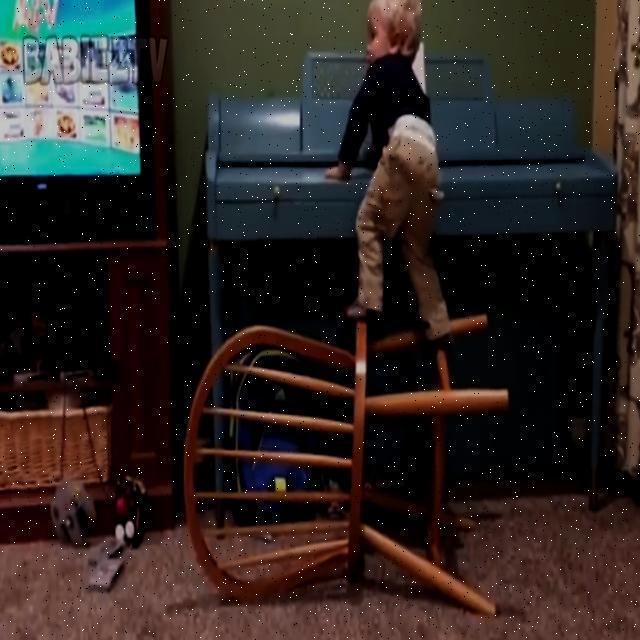child: (323, 0, 451, 338)
